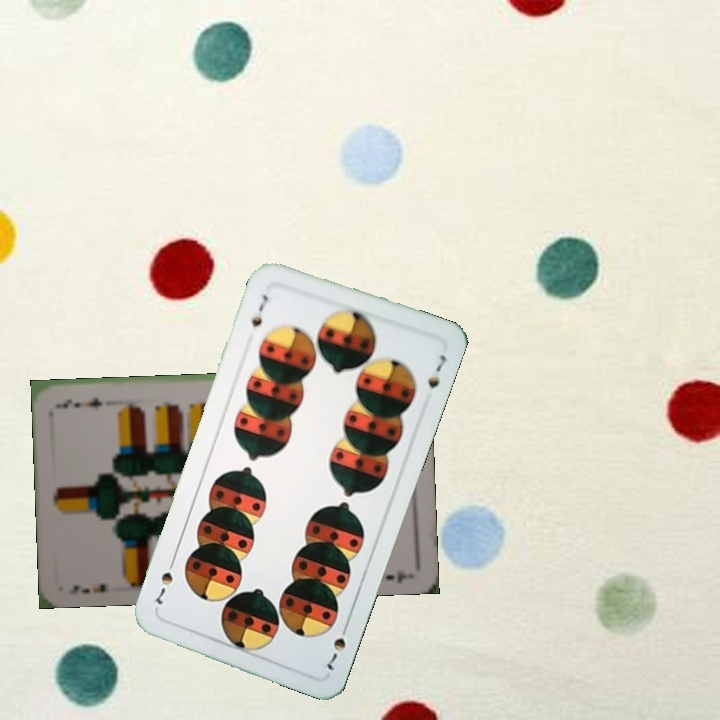E7: (65, 580, 108, 597)
S7: (323, 618, 352, 673), (247, 290, 271, 330)
